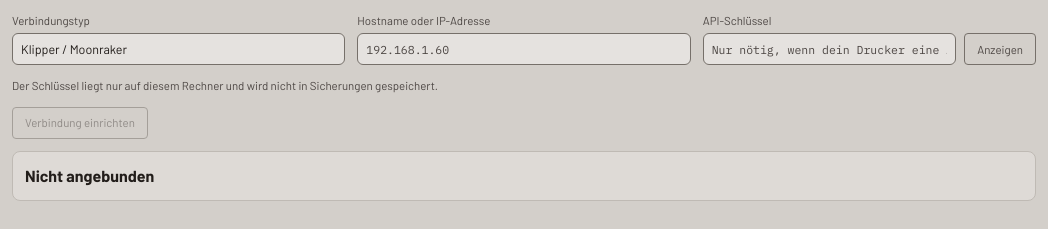
Test: PrinterConnectionSection › explains the error name_resolution_failed
Type "10.0.0.9" into the field labelled "Hostname oder IP-Adresse" at (524,49), box [357,33,691,65]
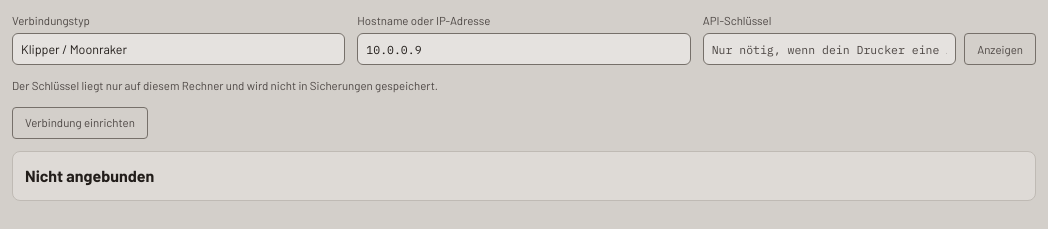
Click the button "Verbindung einrichten" at (80,122), box [12,106,148,138]
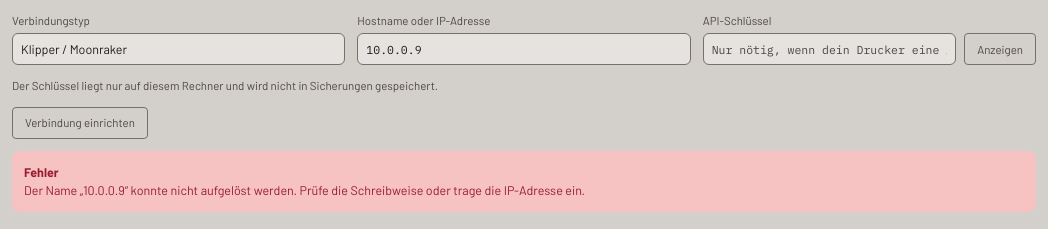
Expected: the text "Der Name „10.0.0.9“ konnte nicht aufgelöst werden" is shown, [24,182,585,198]
